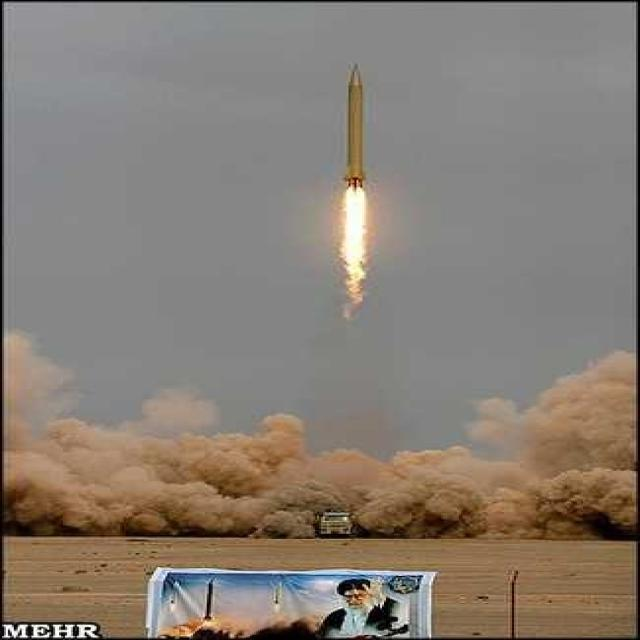missile: (333, 62, 374, 193)
